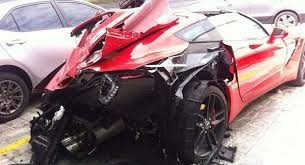Smashed: (27, 14, 235, 160)
